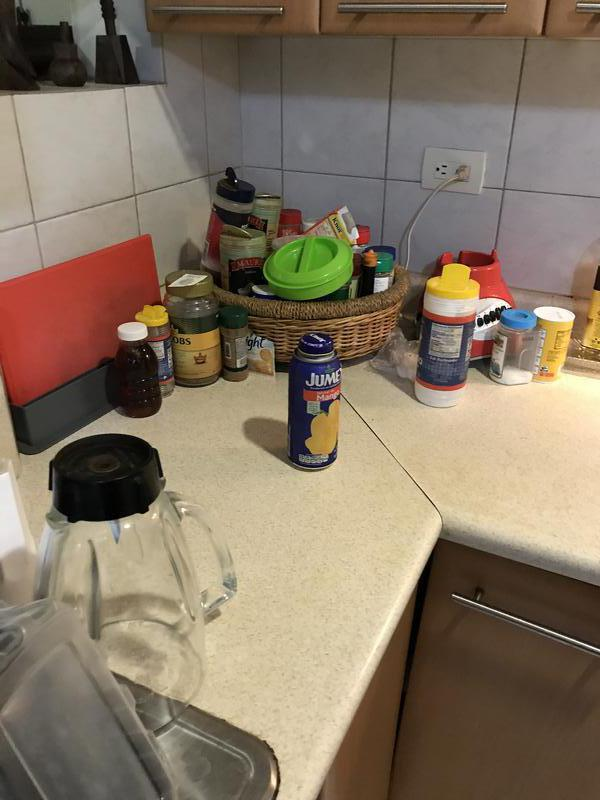jugo_jumex: (289, 332, 344, 469)
